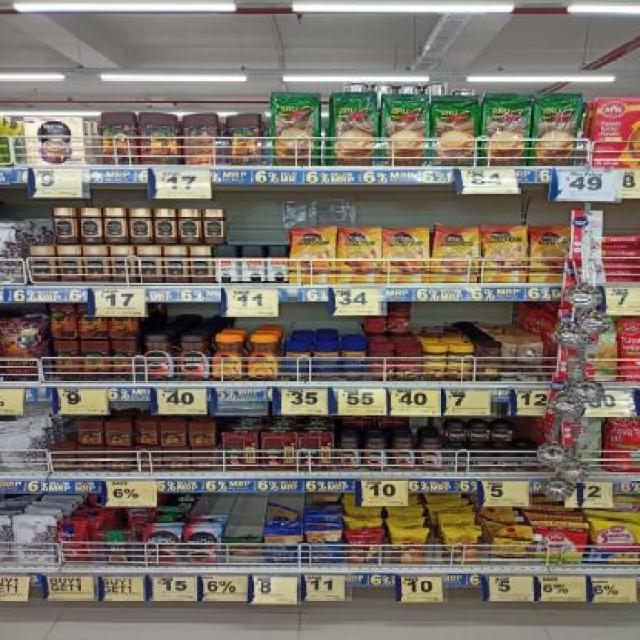Coffee: (292, 228, 337, 283), (434, 228, 478, 282), (483, 228, 526, 282), (384, 229, 428, 280), (530, 226, 570, 282), (338, 228, 379, 282), (215, 333, 247, 381), (143, 336, 175, 381), (249, 334, 280, 380), (177, 337, 210, 378), (145, 526, 180, 562), (184, 526, 216, 562), (137, 246, 161, 282), (103, 208, 128, 242), (417, 438, 443, 470), (29, 247, 54, 280), (188, 247, 212, 281), (53, 207, 76, 242), (153, 207, 176, 242), (84, 247, 108, 280), (112, 246, 134, 282), (200, 208, 223, 242), (60, 247, 83, 281), (129, 208, 151, 243), (165, 247, 187, 282), (365, 438, 389, 470), (178, 209, 200, 242), (79, 209, 101, 242), (393, 437, 415, 469), (338, 439, 360, 470), (469, 422, 491, 443), (470, 452, 495, 470), (491, 424, 514, 442), (444, 425, 467, 443), (498, 453, 520, 470), (448, 454, 470, 471), (522, 454, 541, 471)
